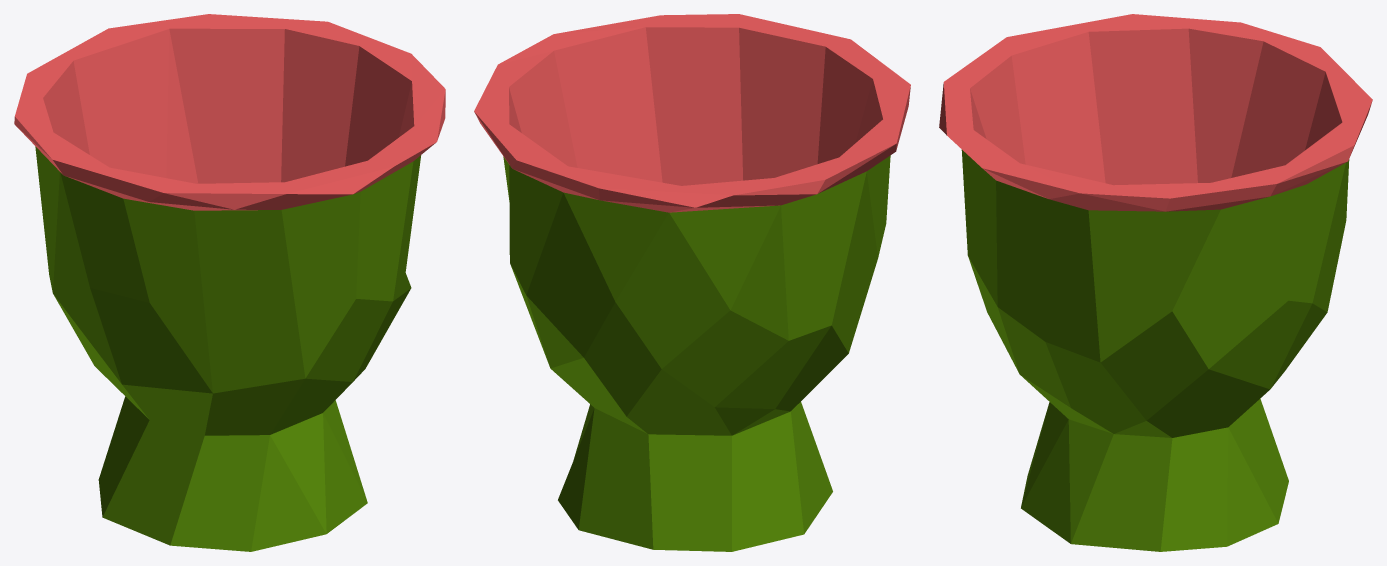
The model's file is EggCup.fbx.
The picture shows the model from 3 angles, left to right: view 1: azimuth 30°, elevation 25°; view 2: azimuth 150°, elevation 25°; view 3: azimuth 270°, elevation 25°; orthographic projection.
Parts seen in each view (by area): view 1: EggCupLowPoly; view 2: EggCupLowPoly; view 3: EggCupLowPoly.
Part boxes in pixels (left/top/right/bottom): EggCupLowPoly: left=14, top=14, right=445, bottom=551; EggCupLowPoly: left=474, top=14, right=910, bottom=551; EggCupLowPoly: left=939, top=14, right=1372, bottom=551.
Size of the model in its own units: 5.54 by 5.48 by 5.5.
